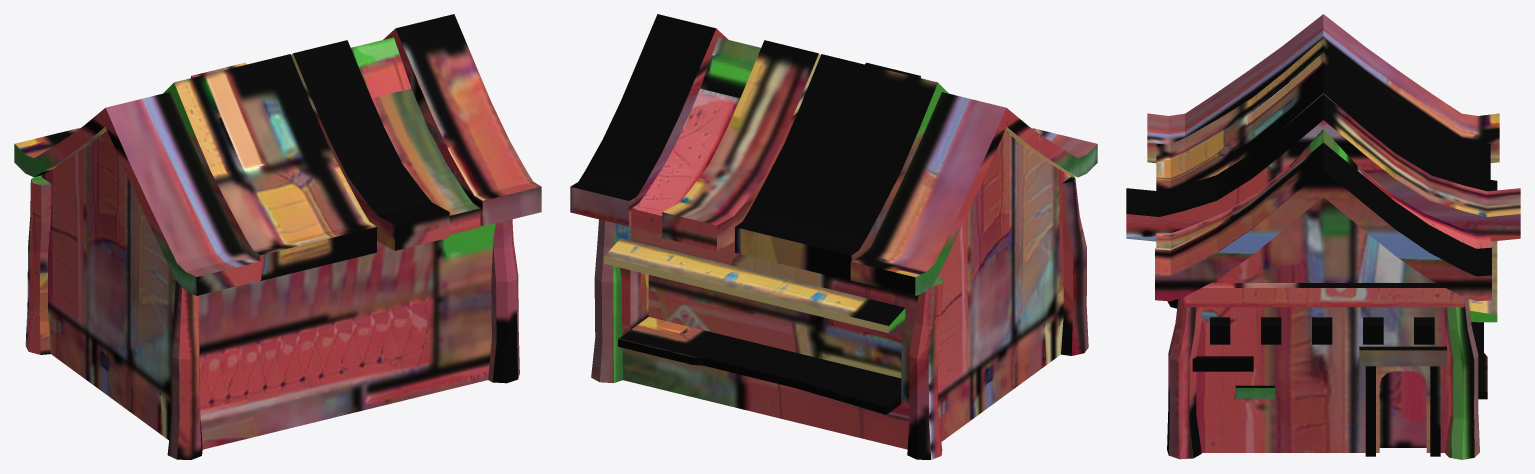
Rendered from home_1208050634.obj.
3 renders of one model, left to right at view 1: azimuth 30°, elevation 25°; view 2: azimuth 150°, elevation 25°; view 3: azimuth 270°, elevation 25°, orthographic. The views are drawn at different scales.
Visible parts, largest first — view 1: Mesh_0; view 2: Mesh_0; view 3: Mesh_0.
Part boxes in pixels (bbox=[...]): Mesh_0: bbox=[14, 14, 541, 459]; Mesh_0: bbox=[570, 14, 1097, 459]; Mesh_0: bbox=[1126, 14, 1520, 459].
Size of the model in its own units: 1 by 0.8121 by 0.9907.
